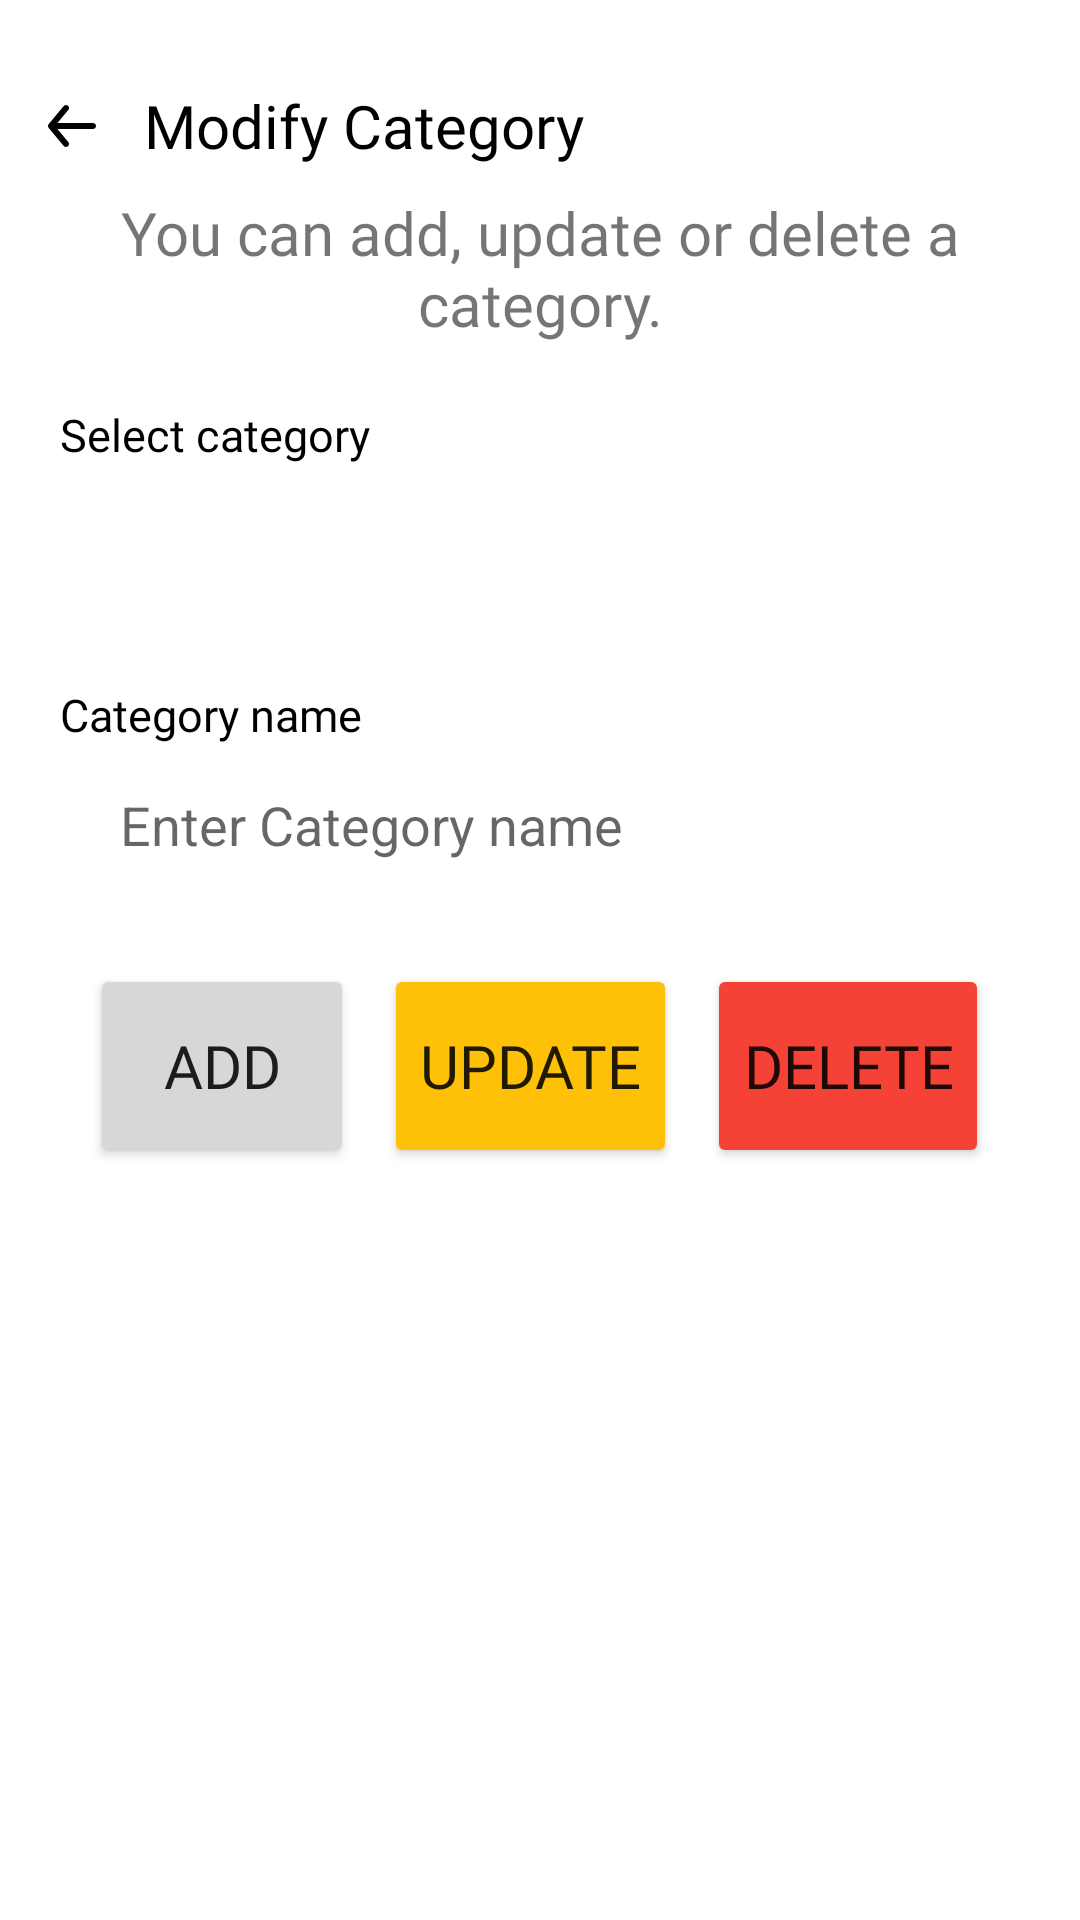

Named icons in this screenshot (1080 x 1920) and their bounding boxes, Rect(x1, y1, x2, y2):
back: Rect(48, 105, 96, 147)
